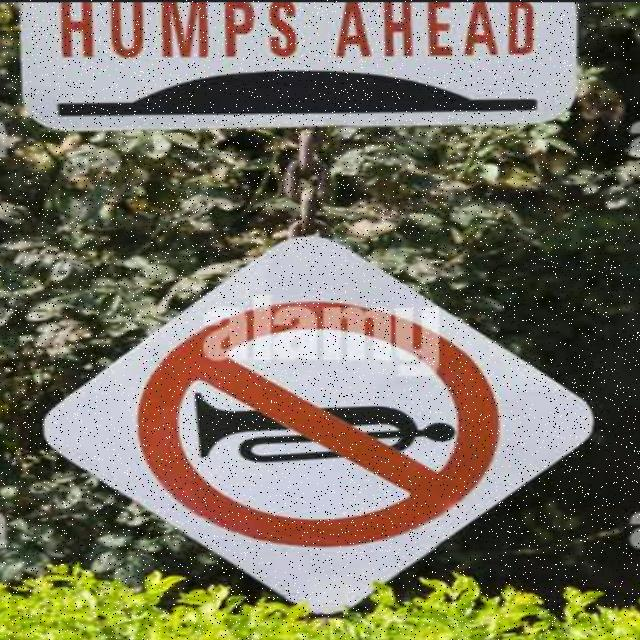No_Horn: (143, 305, 506, 540)
